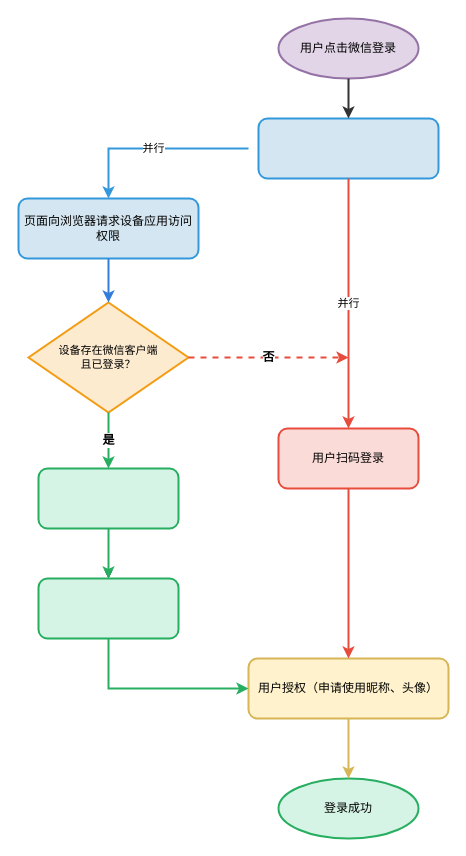
This 466x856 diagram has some shape labels left out. Each missing label, with the centre of its shape:
"显示快捷登录页面" belongs at point (108, 498).
"点击快捷登录按钮" belongs at point (108, 608).
"跳转到微信登录二维码界面" belongs at point (348, 148).
